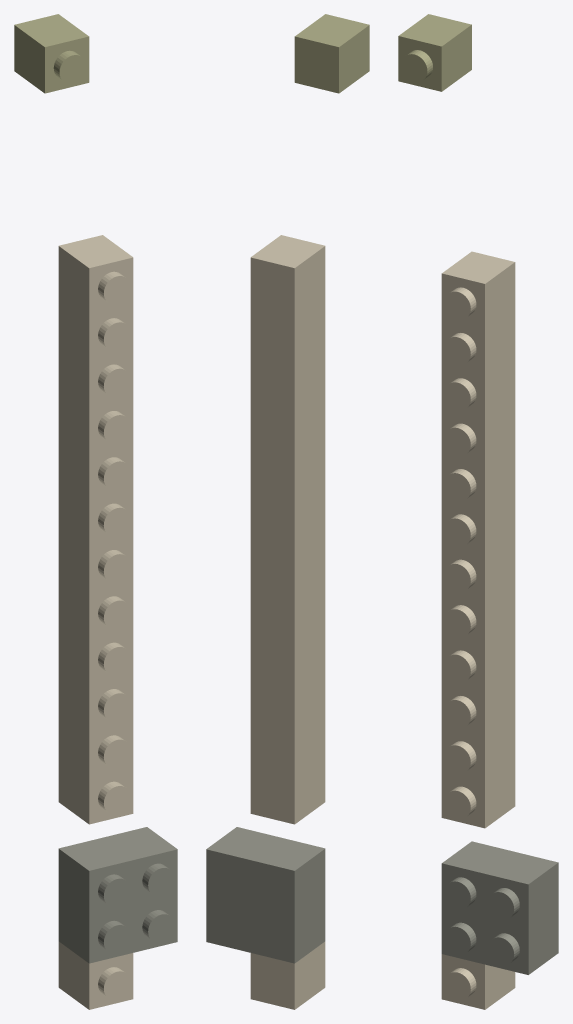
The model's file is current.glb.
3 renders of one model, left to right at view 1: azimuth 30°, elevation 25°; view 2: azimuth 150°, elevation 25°; view 3: azimuth 330°, elevation 25°, orthographic. The views are drawn at different scales.
Visible parts, largest first — view 1: world; view 2: world; view 3: world.
Part boxes in pixels (x1,y1,x2,y2): world: [14, 14, 177, 1009]; world: [206, 14, 369, 1009]; world: [398, 14, 558, 1009].
Size of the model in its own units: 24 by 168 by 11.4.
